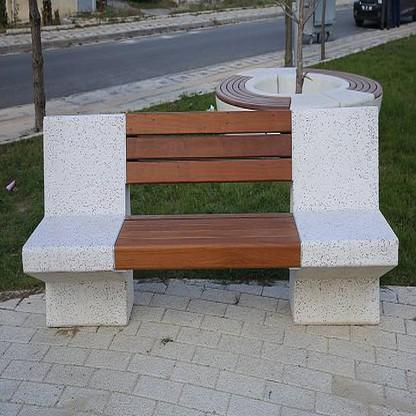obstacle: (15, 96, 402, 339)
